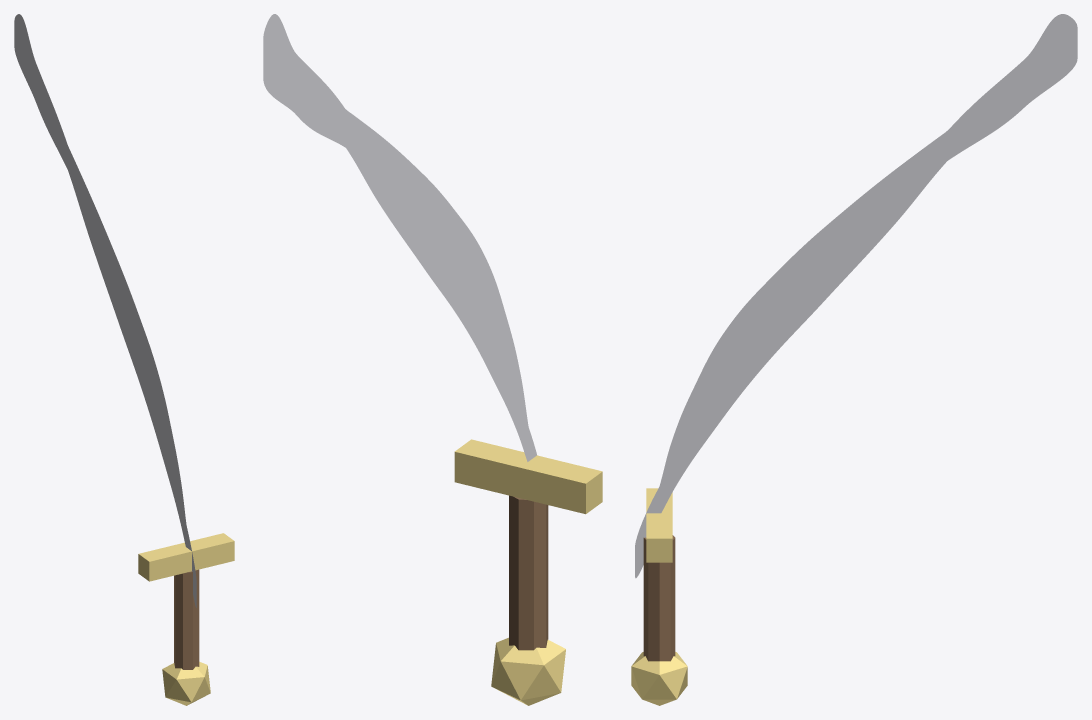
The model's file is wpn_scimitar.glb.
3 views of the same model, side by side, from view 1: azimuth 30°, elevation 25°; view 2: azimuth 150°, elevation 25°; view 3: azimuth 270°, elevation 25° (orthographic). The views are drawn at different scales.
Visible parts, largest first — view 1: Weapon_Scimitar; view 2: Weapon_Scimitar; view 3: Weapon_Scimitar.
Part boxes in pixels (left/top/right/bottom): Weapon_Scimitar: left=14, top=14, right=234, bottom=705; Weapon_Scimitar: left=263, top=14, right=602, bottom=705; Weapon_Scimitar: left=631, top=14, right=1077, bottom=705.
Bounding box in the file's own units: 0.18 × 1.15 × 0.6725.
